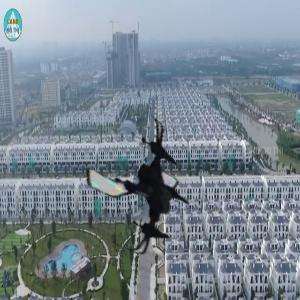drone: (79, 122, 210, 253)
